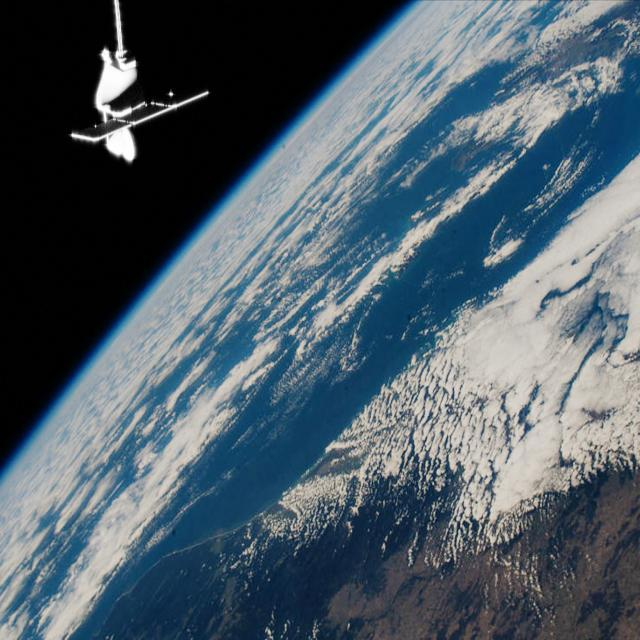satellite: (65, 30, 215, 169)
